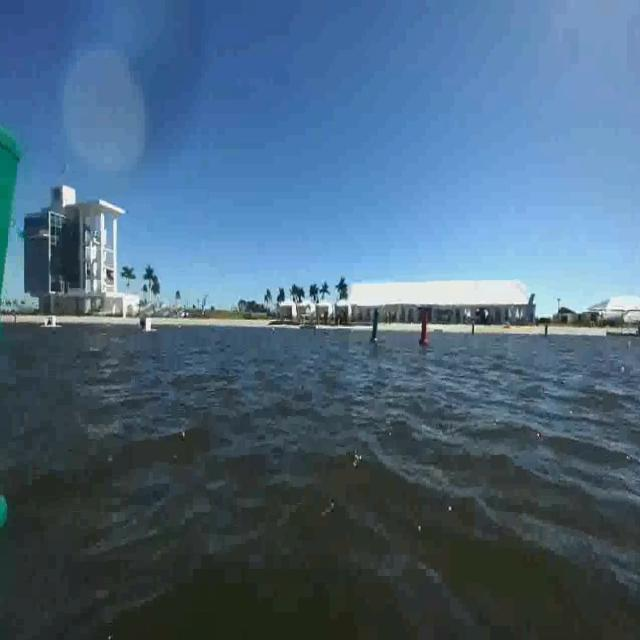green-column-buoy: (0, 110, 29, 534)
red-column-buoy: (419, 314, 432, 348)
